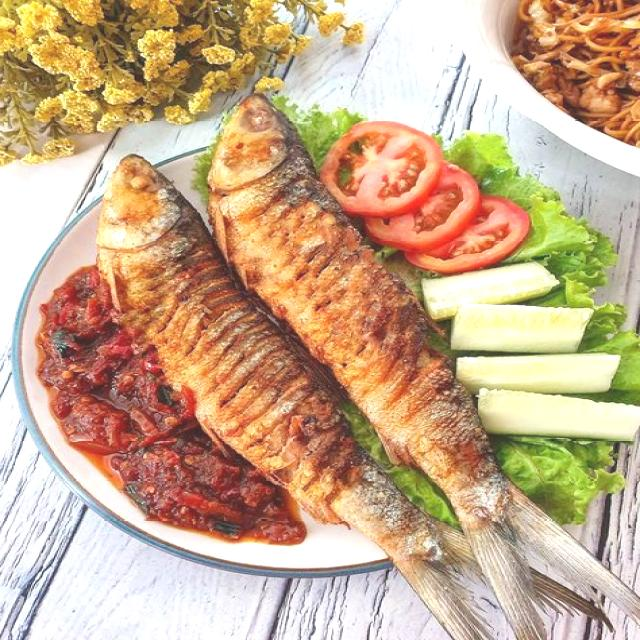ikan goreng: (209, 94, 640, 640), (96, 157, 543, 640)
